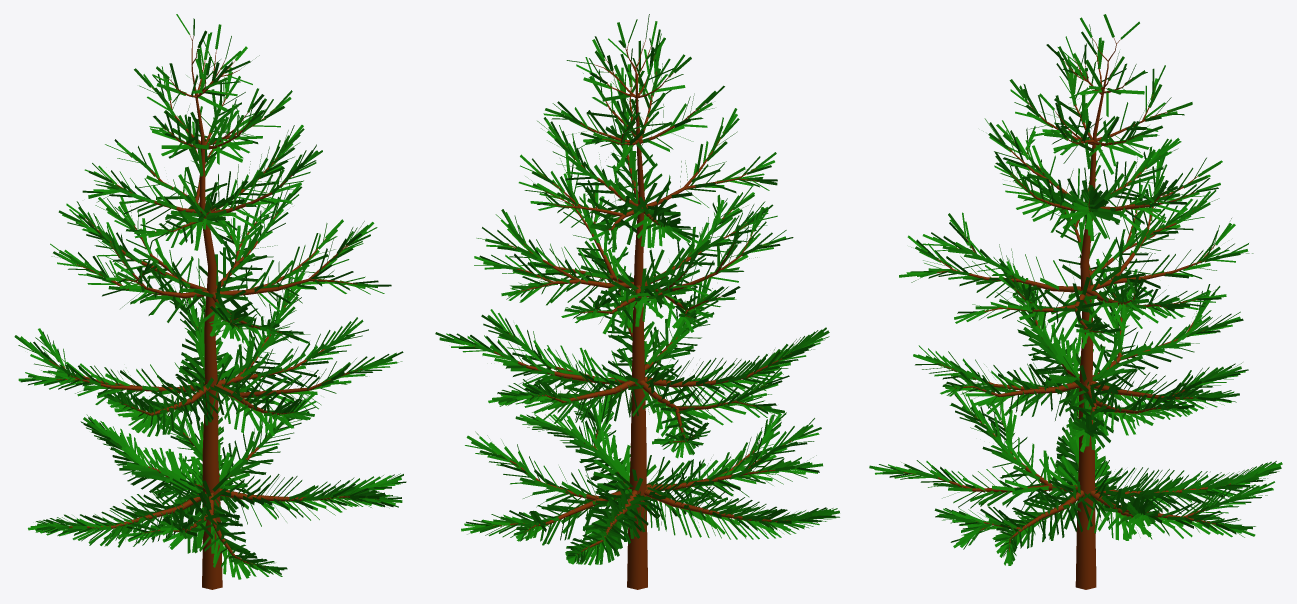
Rendered from Bor.fbx.
The picture shows the model from 3 angles, left to right: view 1: azimuth 30°, elevation 25°; view 2: azimuth 150°, elevation 25°; view 3: azimuth 270°, elevation 25°; orthographic projection. The views are drawn at different scales.
Visible parts, largest first — view 1: leaves, tree; view 2: leaves, tree; view 3: leaves, tree.
Boxes of the visible parts, x1,y1,x2,y2 form: leaves: (14, 14, 406, 579); tree: (49, 35, 378, 589); leaves: (435, 14, 839, 565); tree: (473, 39, 796, 589); leaves: (869, 14, 1282, 565); tree: (897, 37, 1230, 589).
Bounding box in the file's own units: 334 × 517 × 342.
